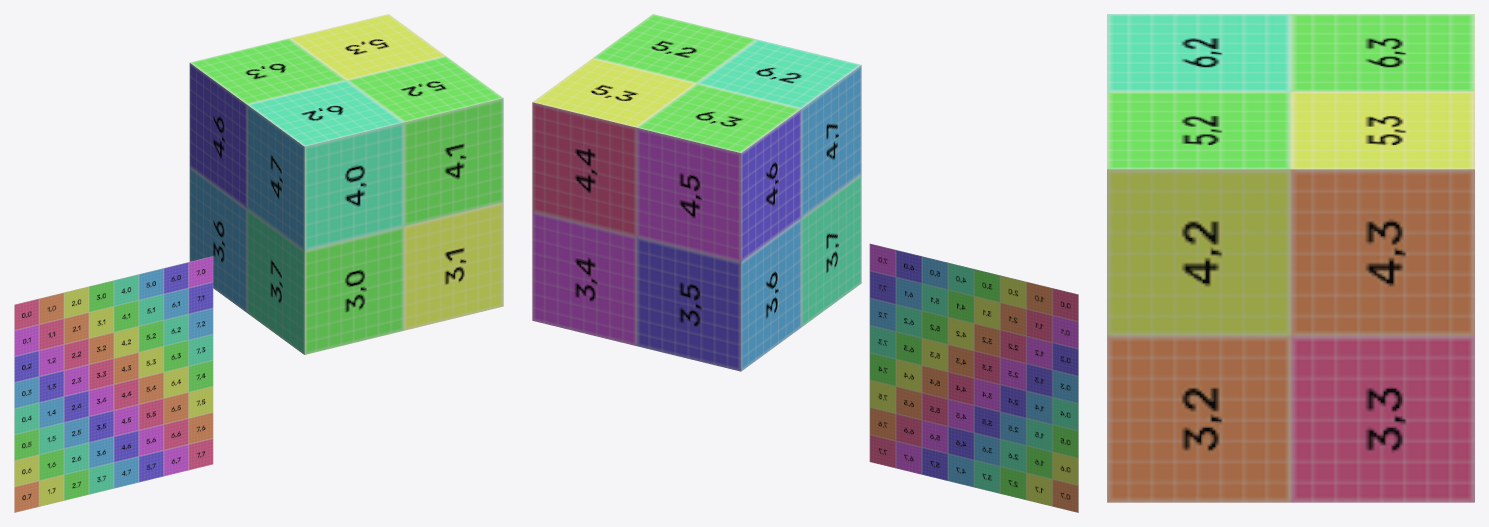
Rendered from MultiMesh.obj.
3 views of the same model, side by side, from view 1: azimuth 30°, elevation 25°; view 2: azimuth 150°, elevation 25°; view 3: azimuth 270°, elevation 25° (orthographic). The views are drawn at different scales.
Visible parts, largest first — view 1: Cube, Plane; view 2: Cube, Plane; view 3: Cube.
Part boxes in pixels (x1,y1,x2,y2): Cube: (189, 14, 503, 354); Plane: (14, 256, 213, 512); Cube: (532, 14, 861, 371); Plane: (869, 243, 1078, 512); Cube: (1107, 14, 1474, 502).
Size of the model in its own units: 4.5 by 3.23 by 2.
1 material, 1 textured.
